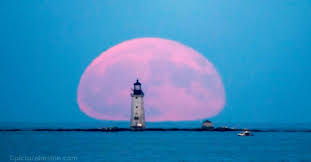moon: (75, 36, 226, 122)
